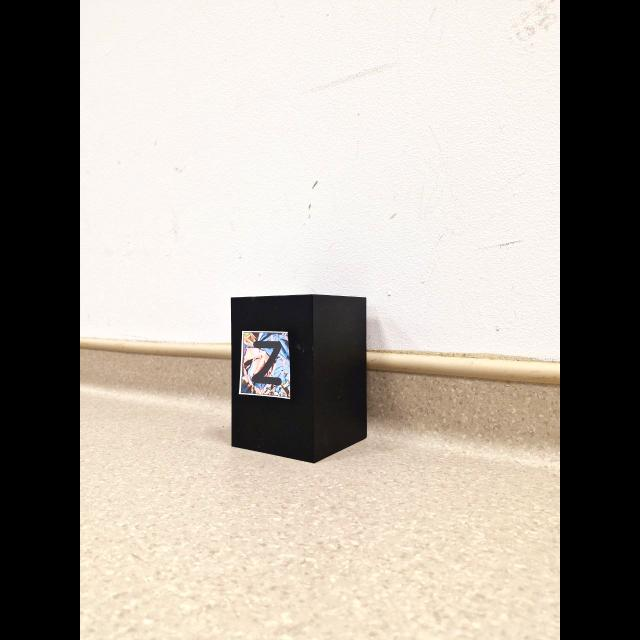Z: (251, 341, 282, 385)
